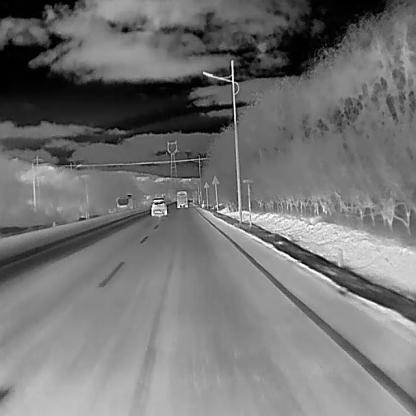car: (115, 193, 133, 212), (150, 197, 167, 216), (176, 189, 189, 208)
sign_danger: (212, 174, 220, 190), (204, 178, 210, 191)
